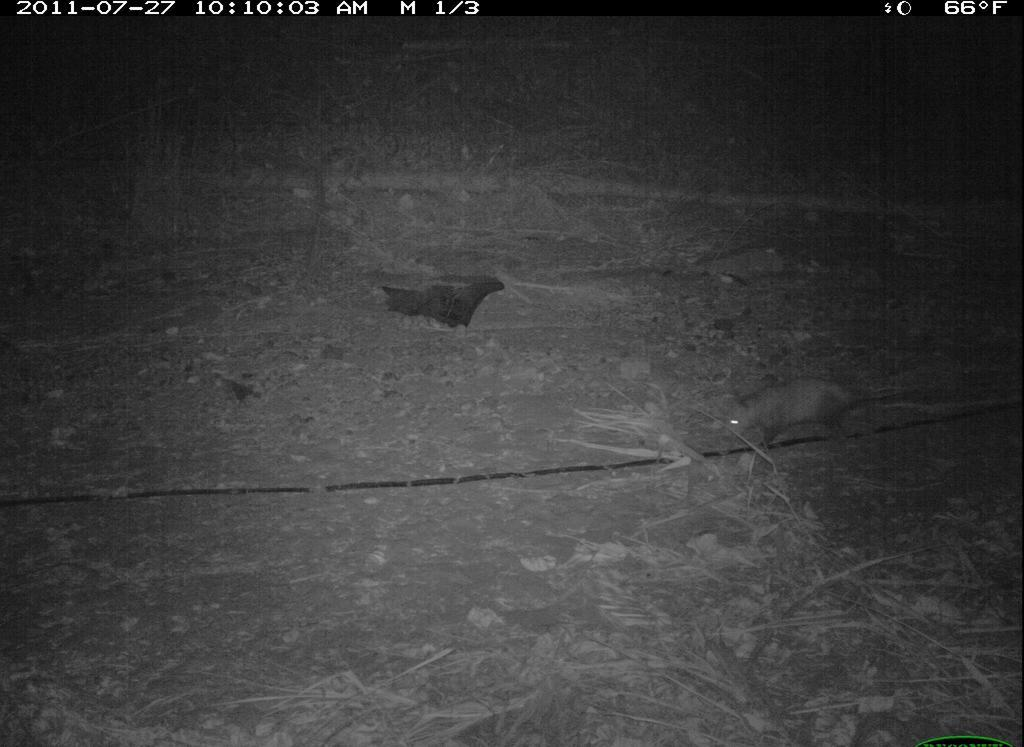opossum: (708, 365, 950, 468)
